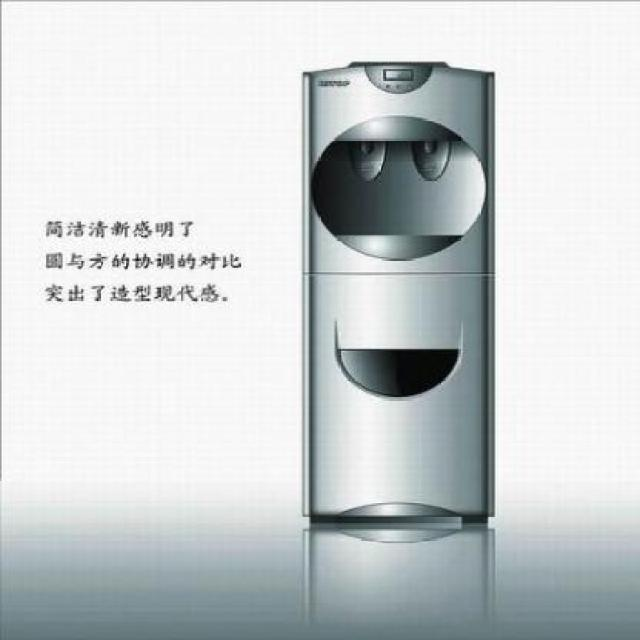cooler: (302, 56, 499, 528)
